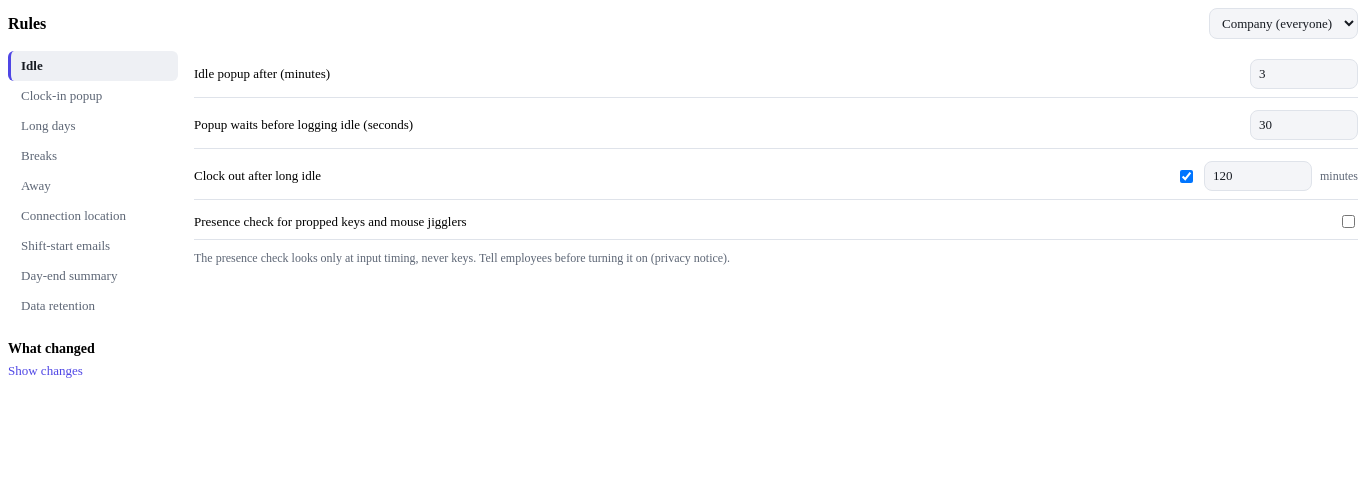
Scenario: Rules: what changed (ADR-0038 §8) › lists the scope's saves when asked, and starts again after a save
The width and height of the screenshot is (1366, 502).
Expected: the number field named "prompt-wait" is shown, top-left (1250, 110), bottom-right (1358, 140)
Click the button "Show changes" at (45, 371), box top-left (8, 363), bottom-right (83, 379)
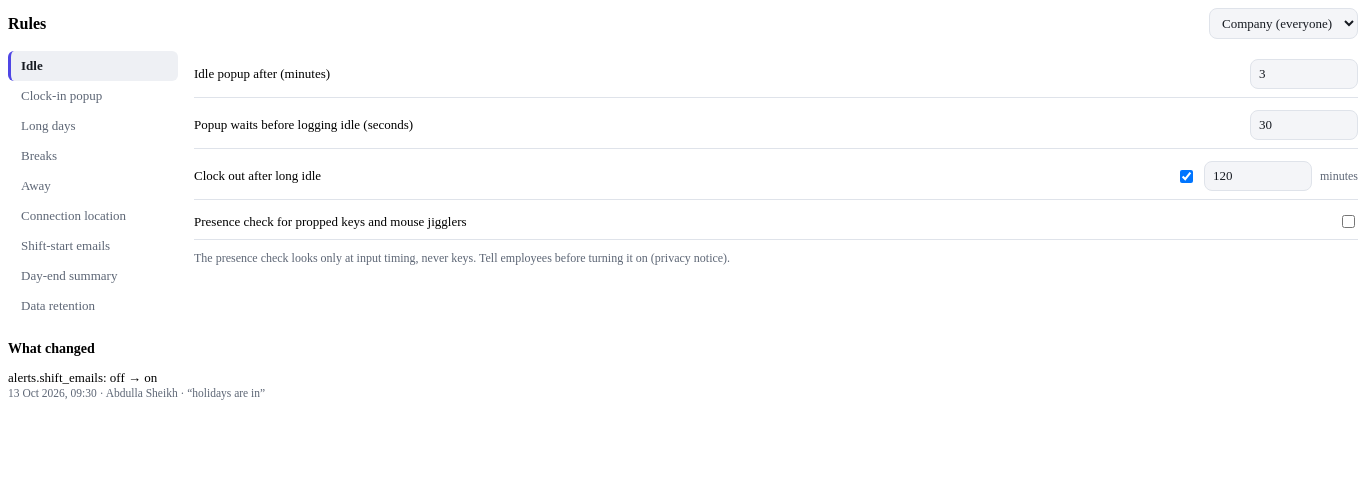
Now the text "alerts.shift_emails: off → on" is shown, box top-left (8, 370), bottom-right (157, 385)
Replace the text in the number field named "prompt-wait" with "45" at (1304, 125), box top-left (1250, 110), bottom-right (1358, 140)
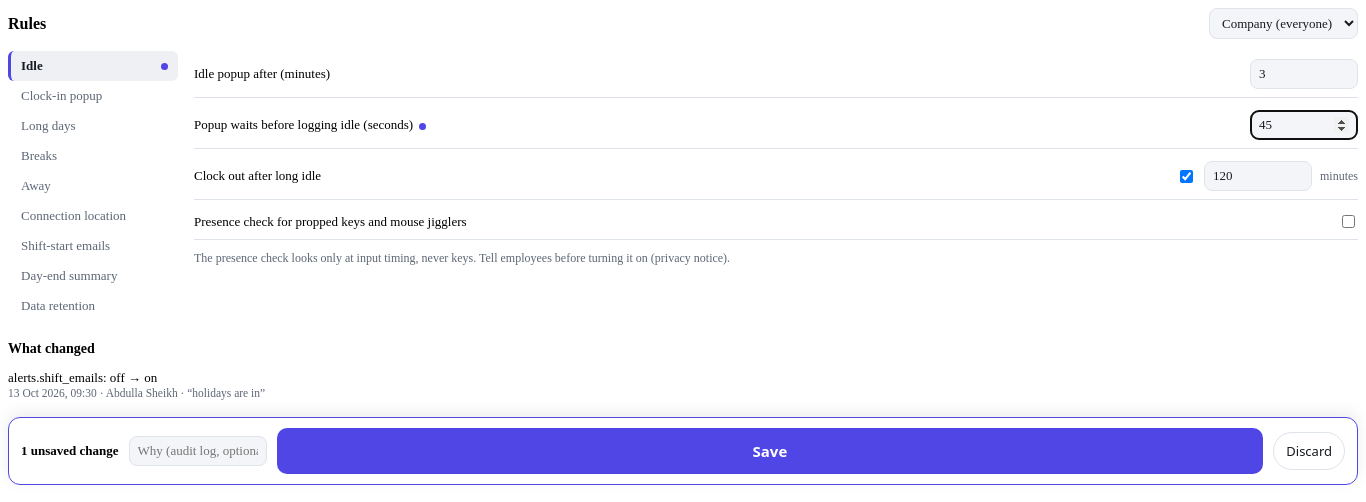
Click the button "Save" at (770, 451), box top-left (276, 428), bottom-right (1263, 474)
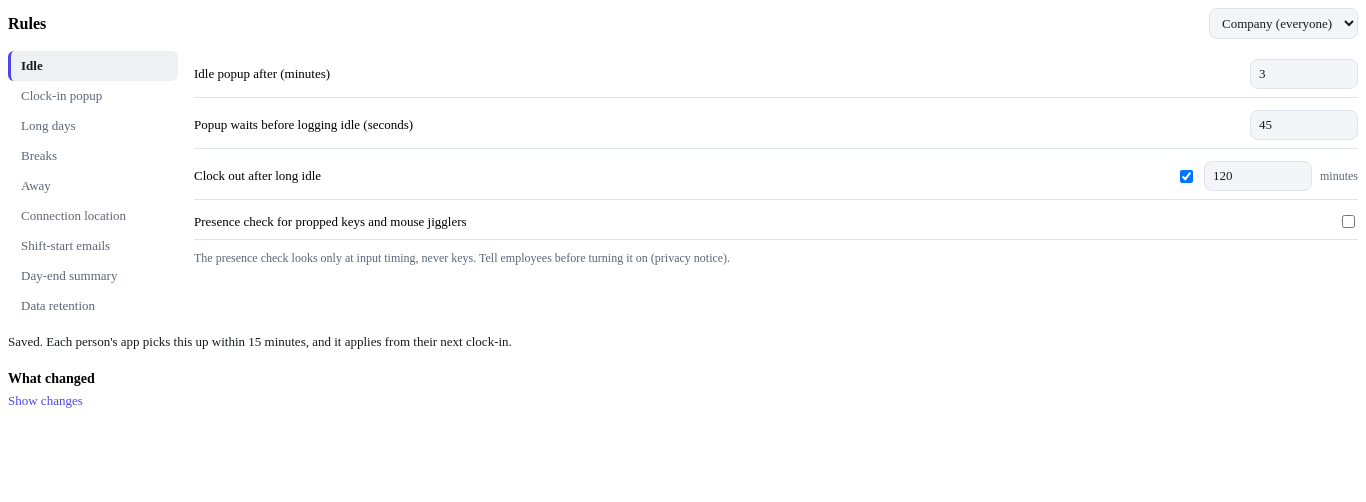
Now the message is shown, box top-left (8, 334), bottom-right (512, 349)
Now the button "Show changes" is shown, box top-left (8, 393), bottom-right (83, 409)
